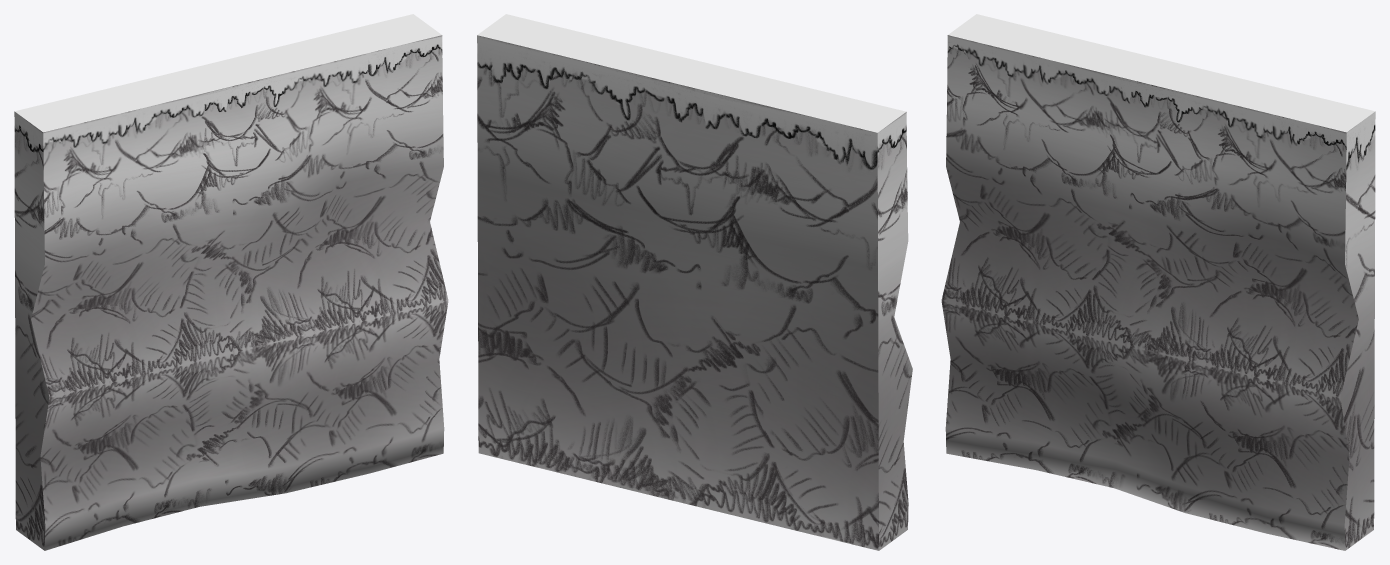
Rendered from 16x2x16_Basic.fbx.
The picture shows the model from 3 angles, left to right: view 1: azimuth 30°, elevation 25°; view 2: azimuth 150°, elevation 25°; view 3: azimuth 330°, elevation 25°; orthographic projection.
Visible parts, largest first — view 1: 16x2x16_Basic; view 2: 16x2x16_Basic; view 3: 16x2x16_Basic.
Part boxes in pixels (x1,y1,x2,y2): 16x2x16_Basic: [14, 14, 448, 550]; 16x2x16_Basic: [477, 14, 912, 550]; 16x2x16_Basic: [941, 14, 1375, 550].
Size of the model in its own units: 1600 by 1600 by 244.
